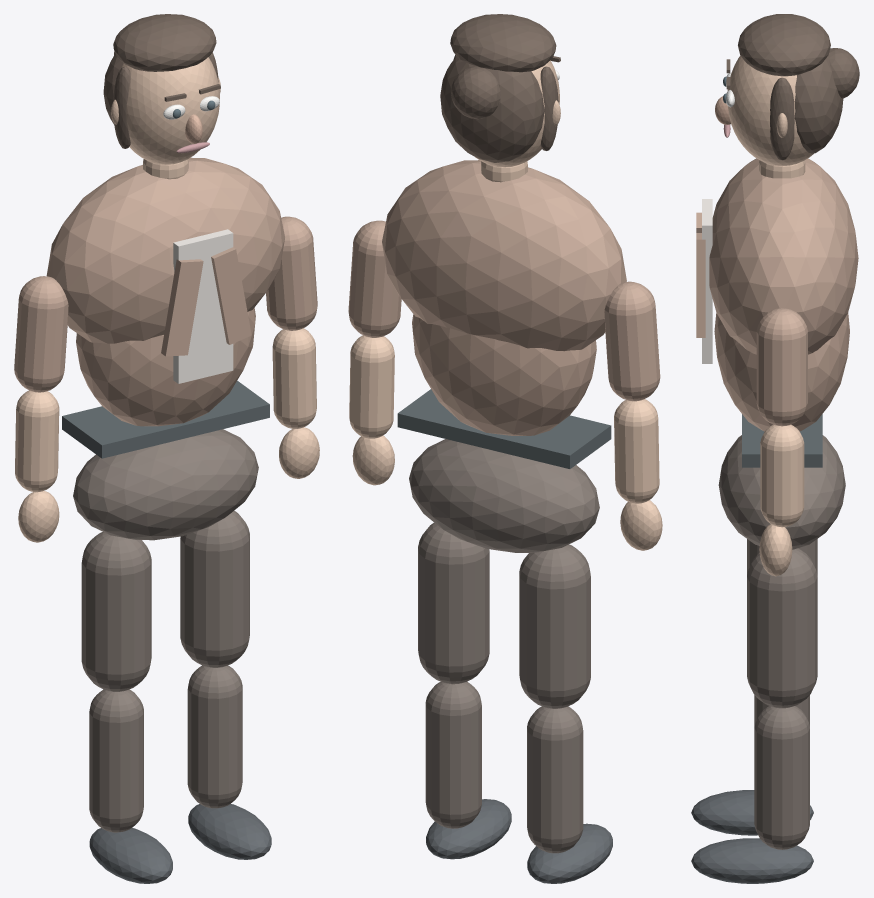
Rendered from guest_female (1).glb.
3 renders of one model, left to right at view 1: azimuth 30°, elevation 25°; view 2: azimuth 150°, elevation 25°; view 3: azimuth 270°, elevation 25°, orthographic. The views are drawn at different scales.
Parts seen in each view (by area): view 1: Chest, Hips, LeftUpLeg, Spine, RightUpLeg, RightLeg, LeftLeg, Head, Belt, LeftArm, ShirtPanel, HairTop (+12 smaller); view 2: Chest, Hips, Spine, LeftUpLeg, RightUpLeg, LeftLeg, RightLeg, HairBack, Belt, LeftArm, HairTop, RightArm (+10 smaller); view 3: Chest, RightUpLeg, RightLeg, Hips, Spine, RightArm, HairTop, Head, RightForeArm, RightFoot, HairBack, LeftFoot (+9 smaller).
Part boxes in pixels (bbox=[...]): Chest: bbox=[46, 157, 284, 343]; Hips: bbox=[73, 429, 258, 540]; LeftUpLeg: bbox=[81, 532, 151, 691]; Spine: bbox=[76, 308, 255, 426]; RightUpLeg: bbox=[180, 510, 249, 667]; RightLeg: bbox=[187, 665, 242, 808]; LeftLeg: bbox=[89, 689, 143, 832]; Head: bbox=[122, 57, 219, 164]; Belt: bbox=[62, 380, 269, 458]; LeftArm: bbox=[14, 276, 68, 392]; ShirtPanel: bbox=[173, 229, 233, 383]; HairTop: bbox=[113, 14, 216, 71]; Chest: bbox=[382, 160, 626, 351]; Hips: bbox=[409, 439, 599, 552]; Spine: bbox=[412, 314, 596, 435]; LeftUpLeg: bbox=[519, 544, 590, 708]; RightUpLeg: bbox=[418, 522, 489, 684]; LeftLeg: bbox=[527, 706, 583, 853]; RightLeg: bbox=[425, 681, 481, 828]; HairBack: bbox=[440, 56, 544, 162]; Belt: bbox=[397, 389, 611, 468]; LeftArm: bbox=[604, 281, 660, 401]; HairTop: bbox=[450, 14, 556, 72]; RightArm: bbox=[348, 220, 401, 337]; Chest: bbox=[709, 158, 858, 354]; RightUpLeg: bbox=[747, 548, 817, 708]; RightLeg: bbox=[754, 706, 809, 849]; Hips: bbox=[718, 435, 845, 549]; Spine: bbox=[714, 313, 849, 431]; RightArm: bbox=[756, 308, 807, 426]; HairTop: bbox=[738, 14, 830, 76]; Head: bbox=[727, 55, 813, 166]; RightForeArm: bbox=[760, 424, 804, 527]; RightFoot: bbox=[691, 838, 813, 883]; HairBack: bbox=[794, 55, 843, 153]; LeftFoot: bbox=[691, 790, 813, 835].
Bounding box in the file's own units: 0.8174 × 2.16 × 0.398.
